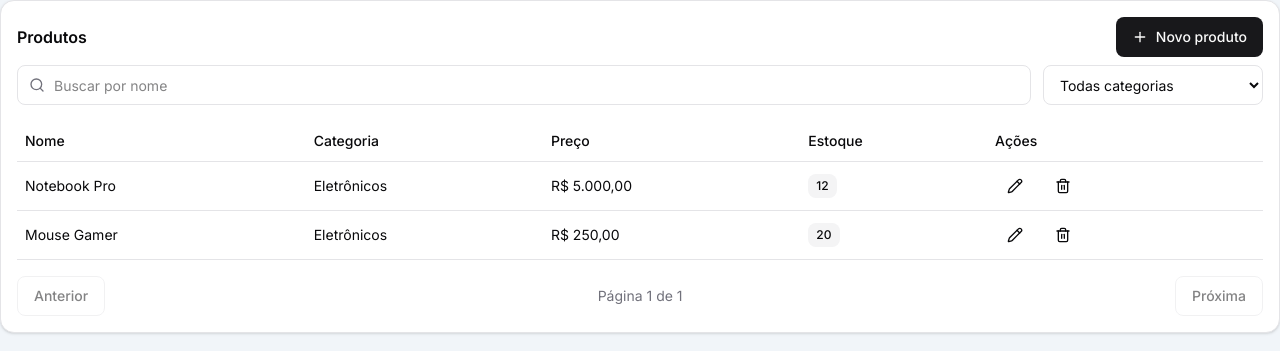
it: ProductsPage › filters products by name
The image size is (1280, 351).
Step 1. Type "mouse" into the field with test id "products-search" → (524, 85), box left=17, top=65, right=1031, bottom=105
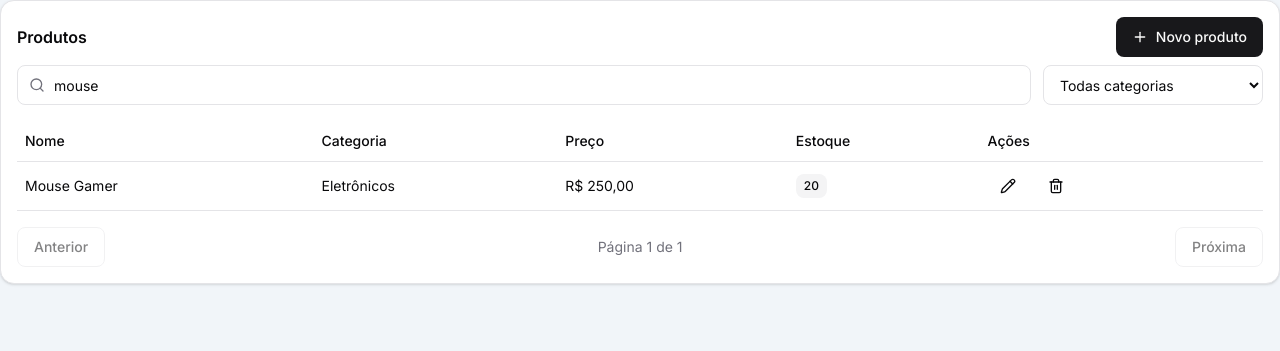
Expected: the text "Mouse Gamer" is shown, left=17, top=161, right=314, bottom=210
Expected: the text "Notebook Pro" is gone
